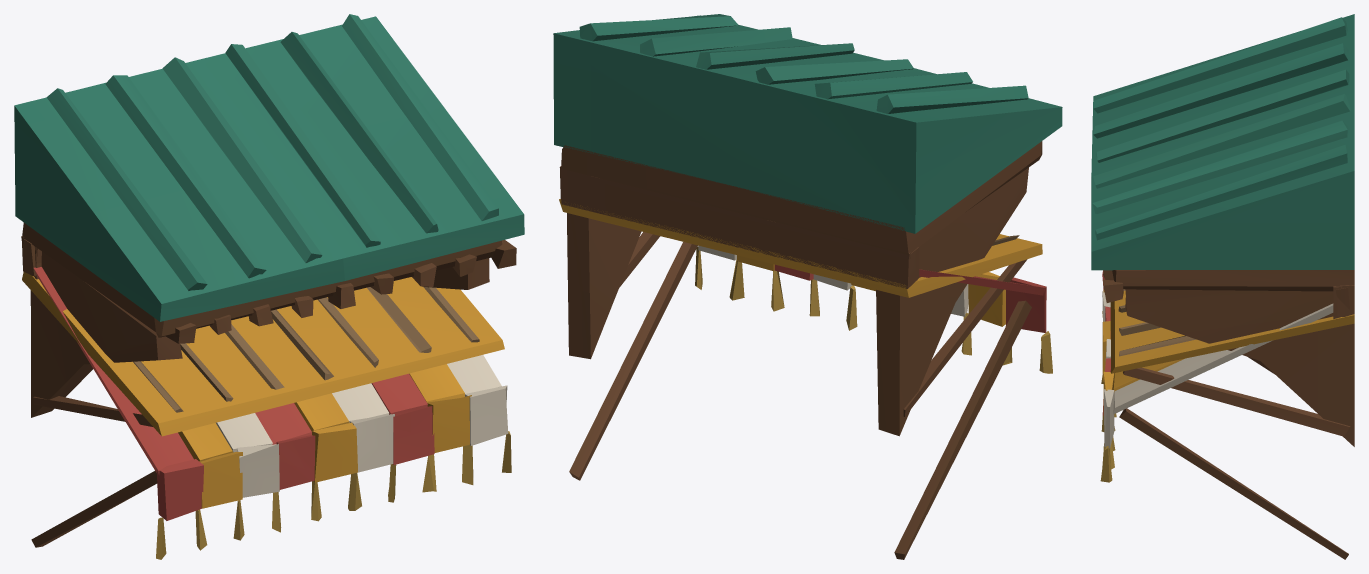
Rendered from awning.glb.
3 views of the same model, side by side, from view 1: azimuth 30°, elevation 25°; view 2: azimuth 150°, elevation 25°; view 3: azimuth 270°, elevation 25° (orthographic). The views are drawn at different scales.
Parts seen in each view (by area): view 1: awning.v1.mesh, awning.v0.mesh, awning.v2.mesh; view 2: awning.v1.mesh, awning.v2.mesh, awning.v0.mesh; view 3: awning.v1.mesh, awning.v2.mesh, awning.v0.mesh.
Part boxes in pixels (<box>): awning.v1.mesh: <box>14,14,524,417</box>; awning.v0.mesh: <box>31,247,511,559</box>; awning.v2.mesh: <box>22,238,504,436</box>; awning.v1.mesh: <box>553,14,1062,436</box>; awning.v2.mesh: <box>559,168,1042,416</box>; awning.v0.mesh: <box>569,242,1052,559</box>; awning.v1.mesh: <box>1091,14,1354,446</box>; awning.v2.mesh: <box>1110,288,1354,436</box>; awning.v0.mesh: <box>1100,270,1348,559</box>.
Size of the model in its own units: 0.9897 by 1.2 by 0.696.
